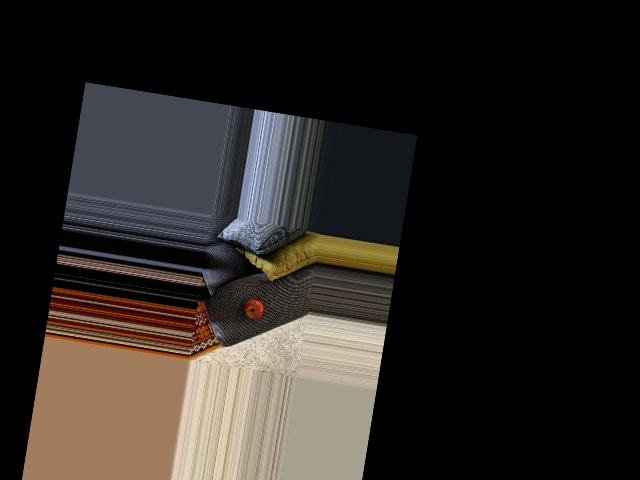apple: (240, 295, 265, 320)
